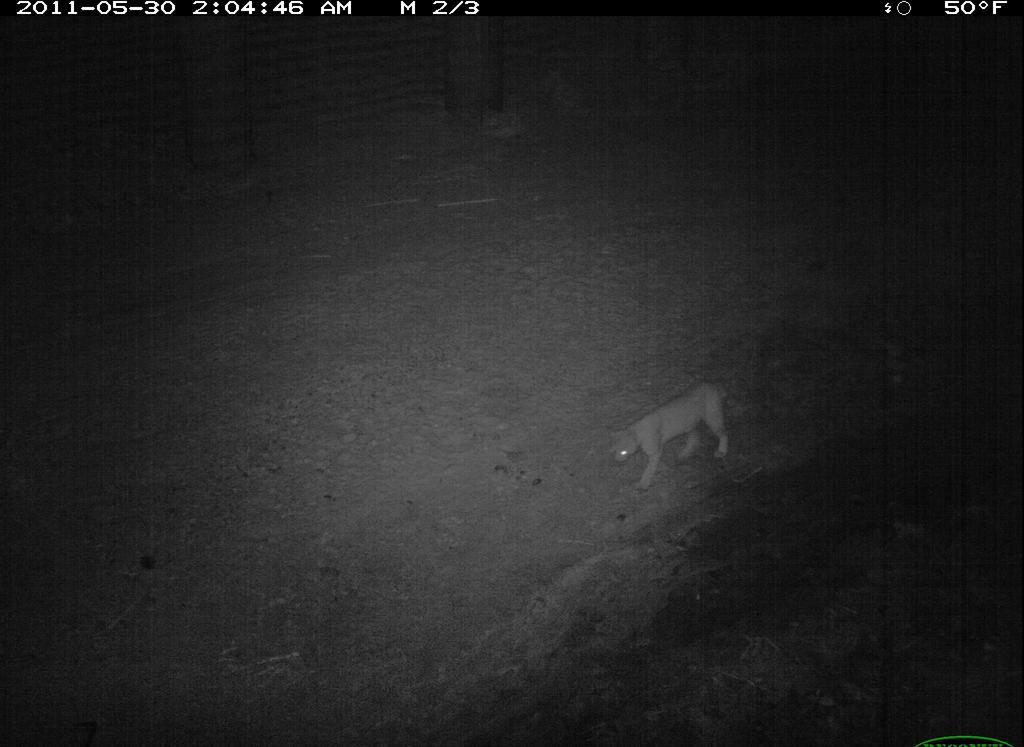bobcat: (598, 373, 760, 501)
